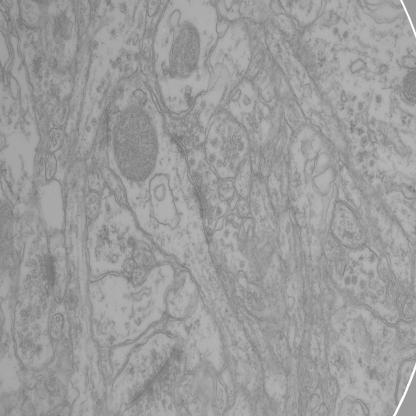mitochondria: (111, 105, 158, 186), (166, 24, 205, 80)
